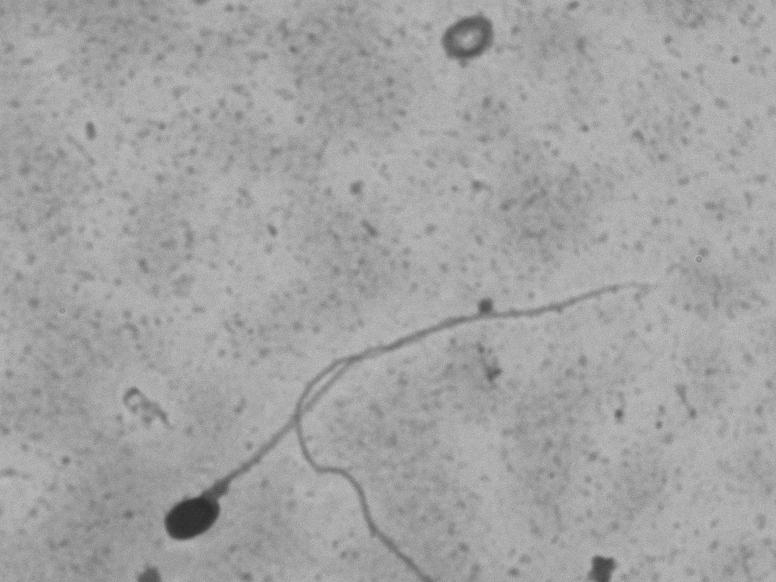Abnormal: (148, 267, 660, 550)
